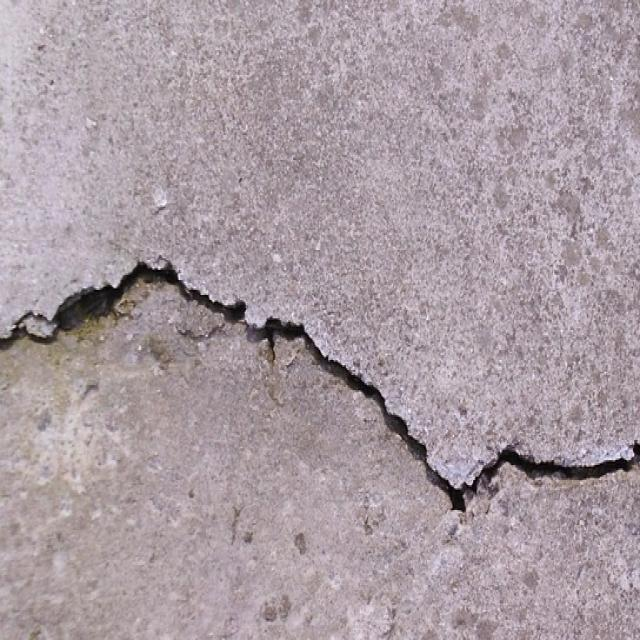Transverse: (0, 229, 640, 521)
